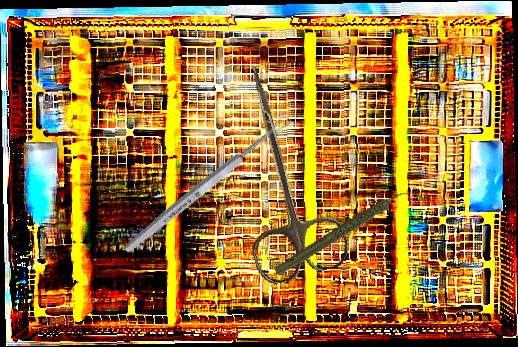Handpiece: (263, 188, 424, 278)
Iris Scissors: (203, 53, 355, 289)
Surgical Spoon: (120, 112, 294, 257)
